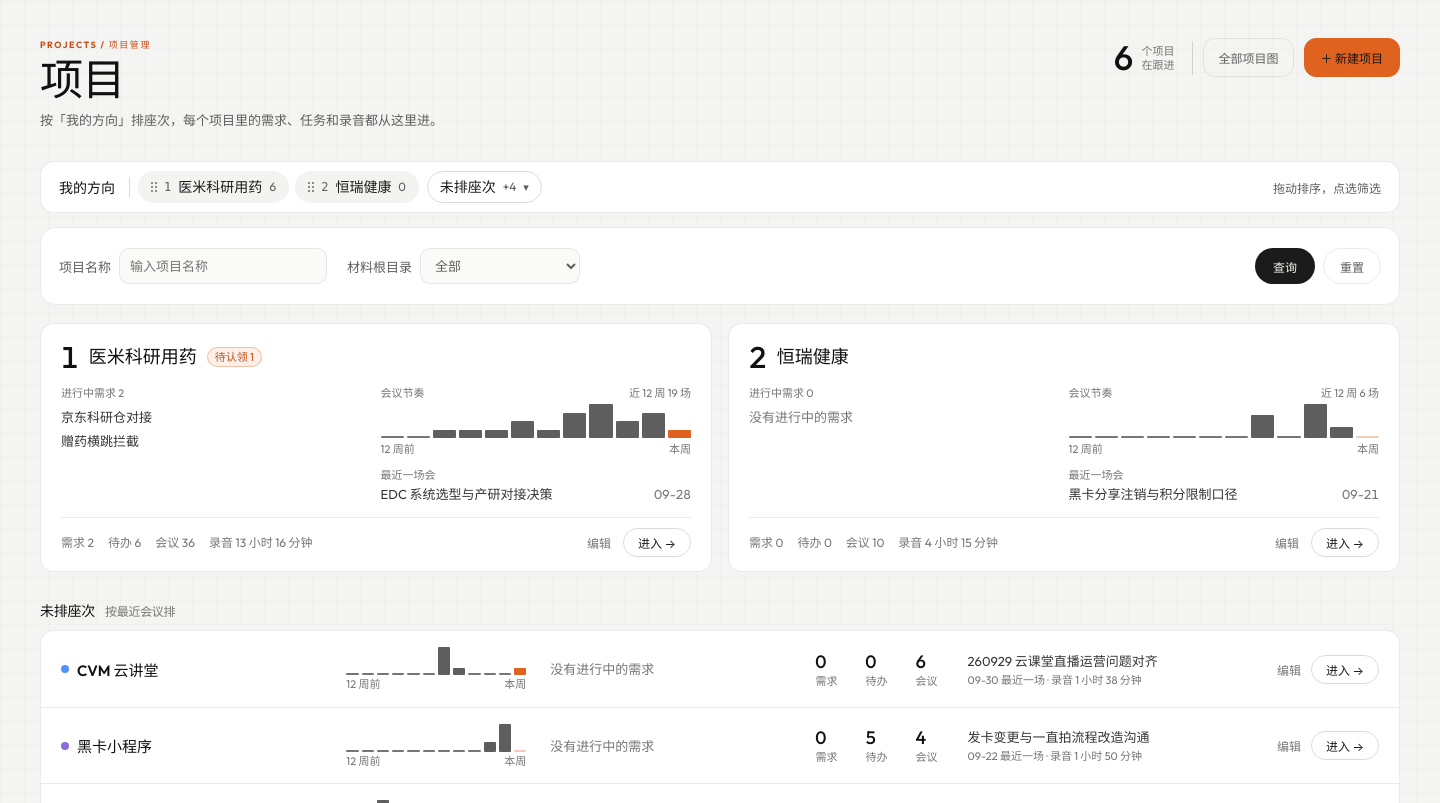
ProjectsPage 查询 › 什么都对不上时写没有符合条件的项目
Type "不存在的项目" into the field with placeholder "输入项目名称" at (223, 266), box top-left (119, 248), bottom-right (327, 284)
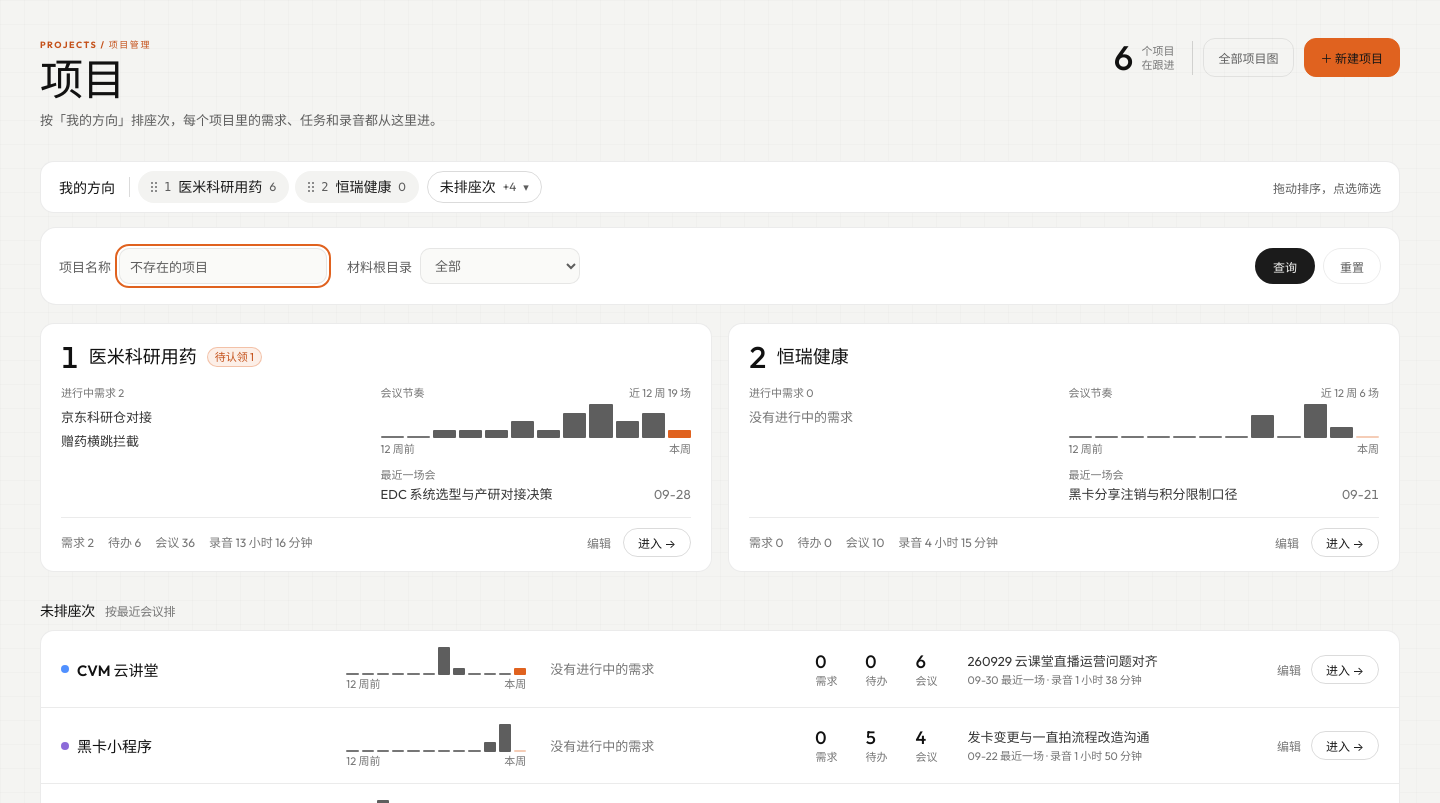
Click the button "查询" at (1285, 266), box top-left (1255, 248), bottom-right (1315, 284)
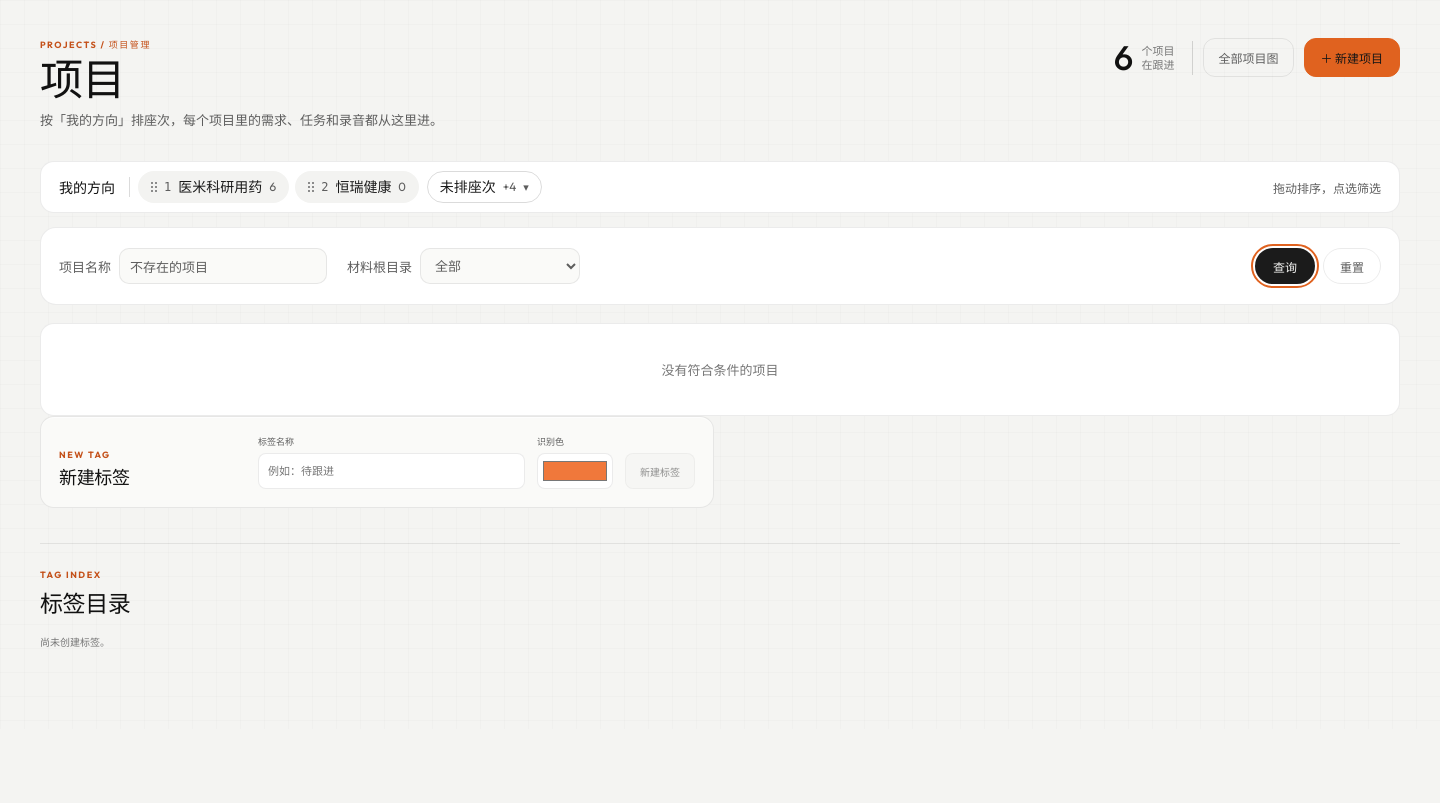
expect the text "没有符合条件的项目" is shown: met, box top-left (40, 323), bottom-right (1400, 416)
